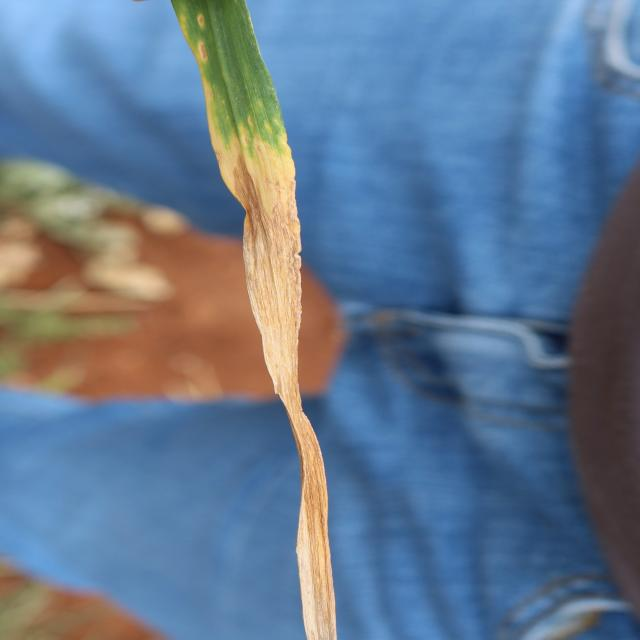Septoria: (242, 195, 298, 334), (300, 514, 334, 638), (226, 146, 296, 186), (264, 336, 295, 388), (304, 459, 324, 511), (290, 406, 312, 452)
